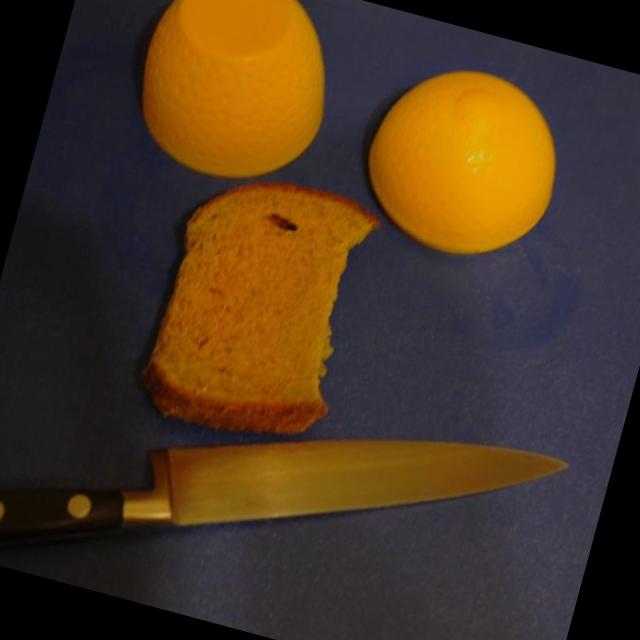Knife: (0, 439, 566, 546)
